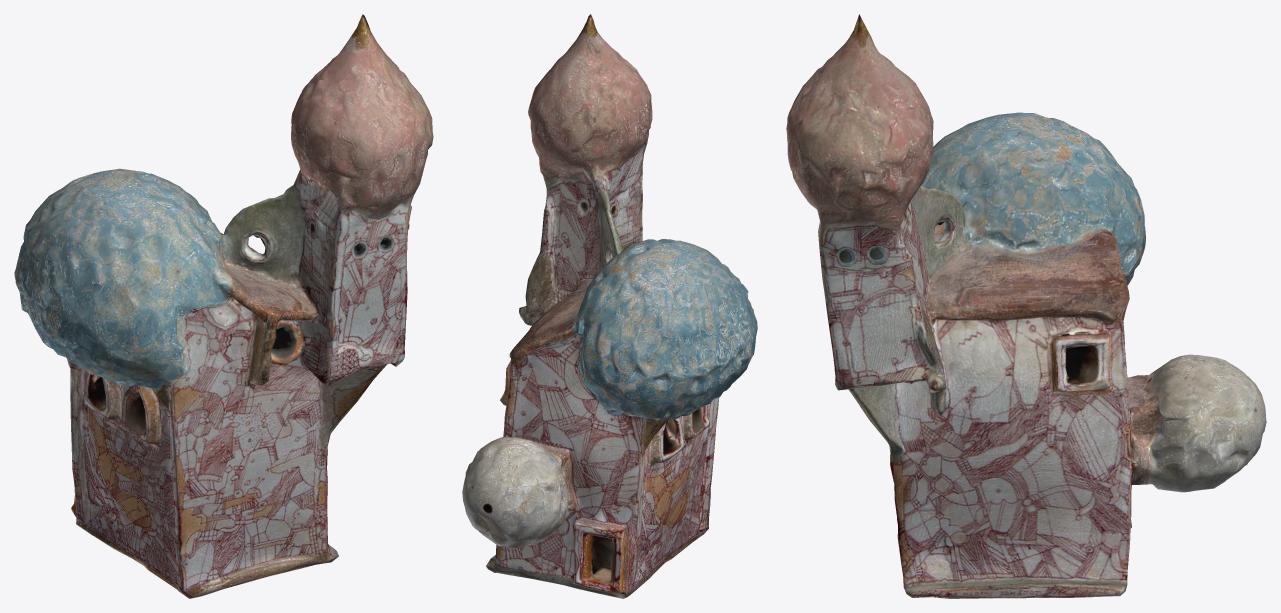
3 views of the same model, side by side, from view 1: azimuth 30°, elevation 25°; view 2: azimuth 150°, elevation 25°; view 3: azimuth 270°, elevation 25° (orthographic). The views are drawn at different scales.
Visible parts, largest first — view 1: 5-10-4k; view 2: 5-10-4k; view 3: 5-10-4k.
Part boxes in pixels (bbox=[...]): 5-10-4k: bbox=[14, 14, 433, 598]; 5-10-4k: bbox=[462, 14, 757, 598]; 5-10-4k: bbox=[786, 14, 1266, 598].
Size of the model in its own units: 0.9122 by 1.57 by 1.17.
Materials: 1 (1 with a texture image).
